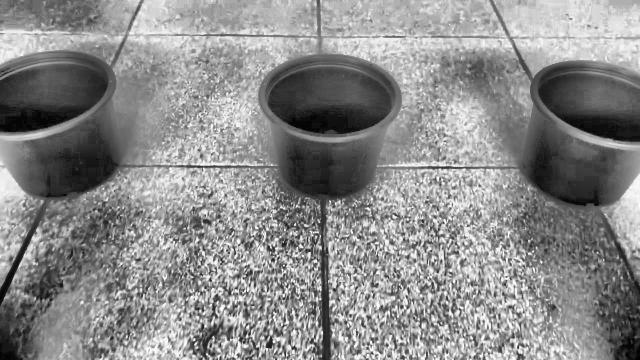pot: (258, 54, 401, 199), (0, 51, 122, 200), (520, 61, 640, 207)
